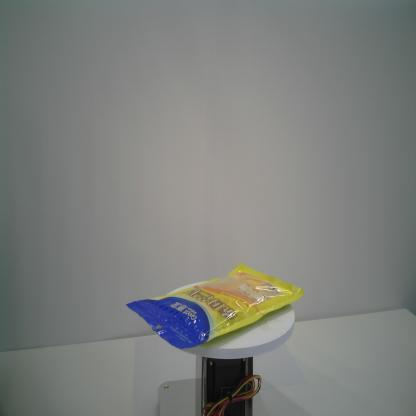Dried Fruit: (125, 262, 306, 350)
